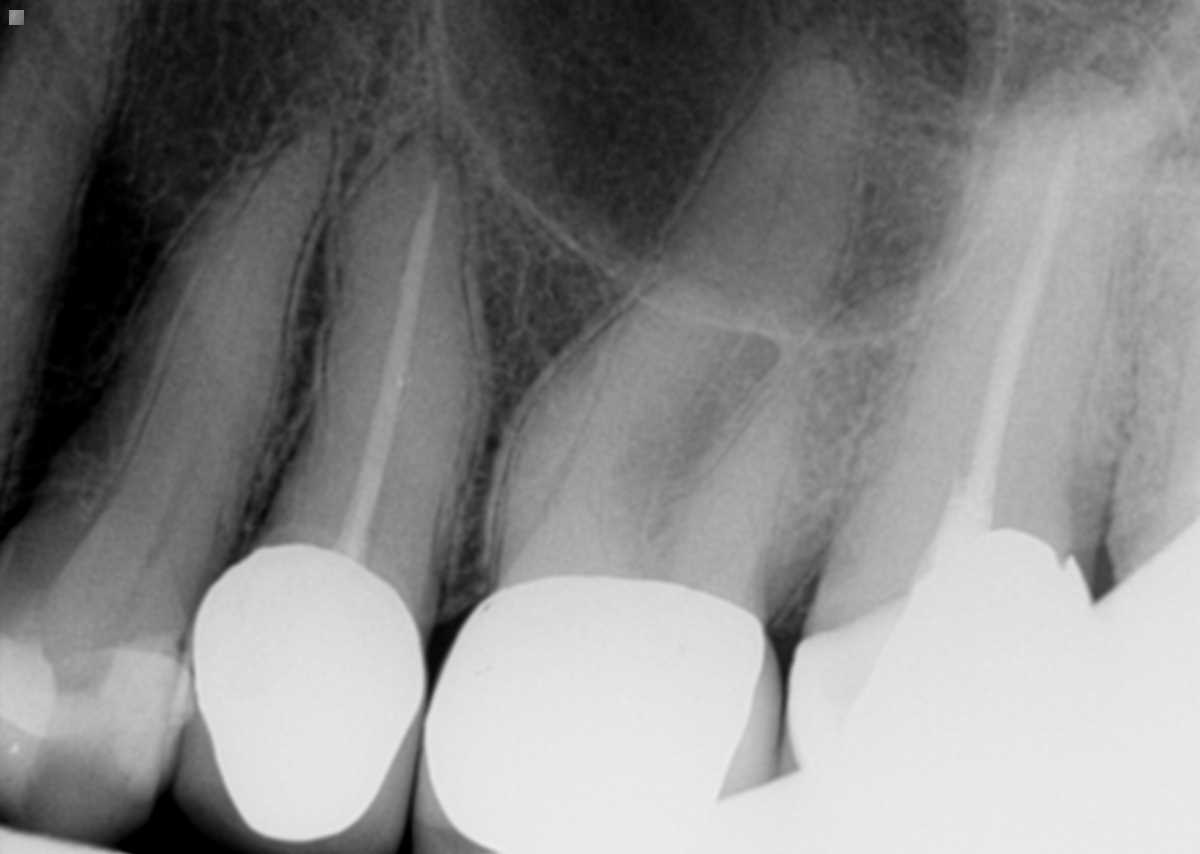Apical Lesion: (990, 7, 1177, 115)
Distal Root: (693, 275, 974, 597)
Main Canal: (137, 235, 271, 579)
Main Root: (832, 60, 1165, 596), (22, 130, 334, 599), (263, 127, 478, 581), (0, 0, 125, 463)
Mesial Root: (497, 277, 737, 562)
Palatal Root: (531, 56, 859, 588)
Root Canal Filling: (932, 121, 1081, 539), (332, 186, 440, 561)
